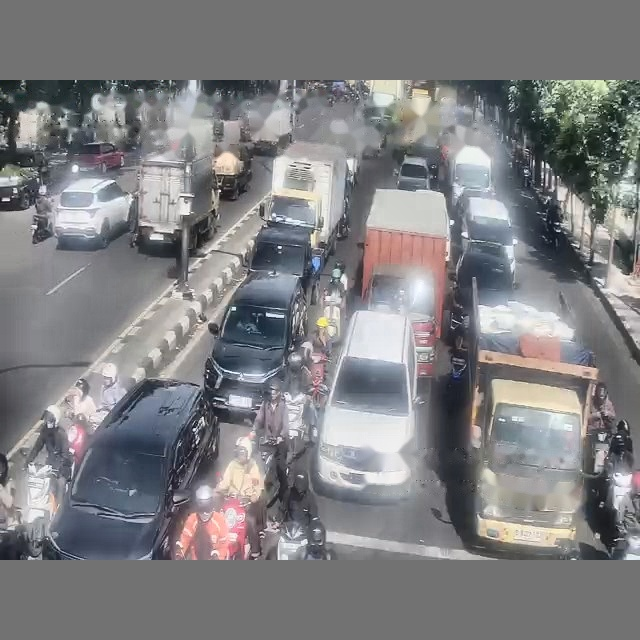Mobil: (43, 379, 219, 559), (312, 310, 421, 496), (204, 272, 306, 414), (54, 178, 132, 247), (249, 226, 317, 303), (461, 197, 516, 281), (454, 244, 514, 308), (0, 149, 48, 209), (71, 142, 124, 173), (454, 188, 495, 222), (396, 156, 430, 190)
Motor: (20, 463, 58, 556), (284, 391, 311, 460), (222, 495, 249, 559), (258, 437, 280, 508), (276, 520, 306, 559), (323, 289, 342, 339), (30, 213, 53, 244)
Truk: (468, 282, 597, 553), (360, 189, 449, 378), (259, 142, 347, 268), (133, 150, 219, 250)
